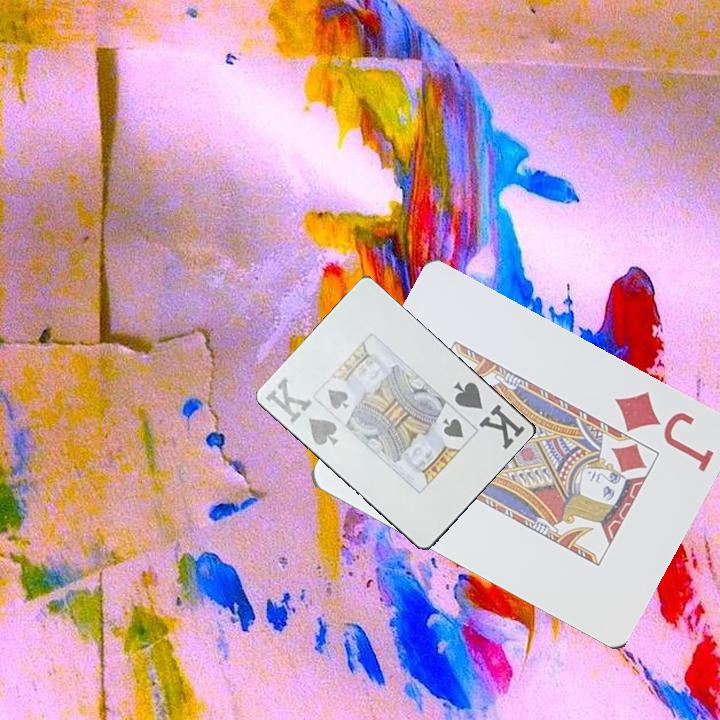Jd: (610, 387, 717, 475)
Ks: (262, 373, 341, 449), (450, 378, 529, 453)
